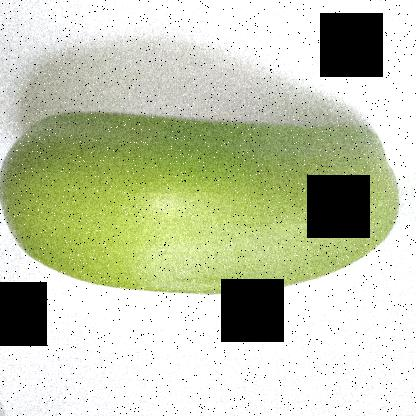freshunripe: (0, 103, 406, 302)
